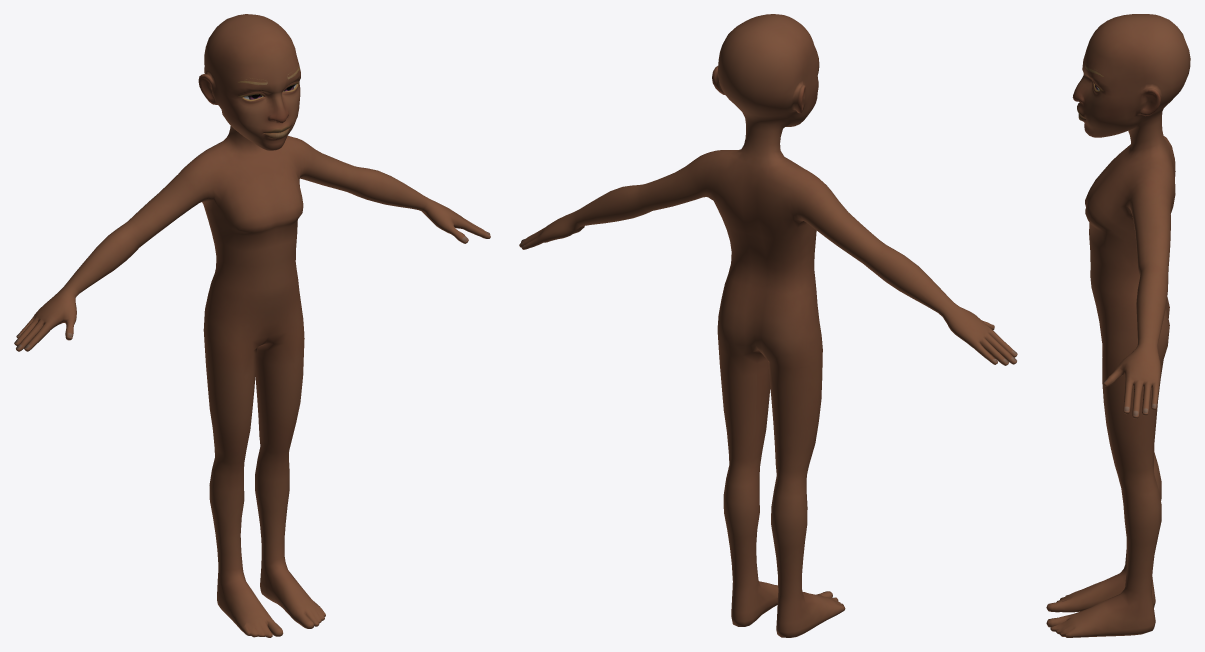
File: frame_0086.glb
The picture shows the model from 3 angles, left to right: view 1: azimuth 30°, elevation 25°; view 2: azimuth 150°, elevation 25°; view 3: azimuth 270°, elevation 25°; orthographic projection. The views are drawn at different scales.
Visible parts, largest first — view 1: frame_0086_head_geo; view 2: frame_0086_head_geo; view 3: frame_0086_head_geo.
Part boxes in pixels (x1=…): frame_0086_head_geo: x1=14, y1=14, x2=490, y2=637; frame_0086_head_geo: x1=519, y1=14, x2=1017, y2=637; frame_0086_head_geo: x1=1046, y1=14, x2=1190, y2=637.
Bounding box in the file's own units: 1.28 × 1.5 × 0.3253.
Materials: 3 (3 with a texture image).
